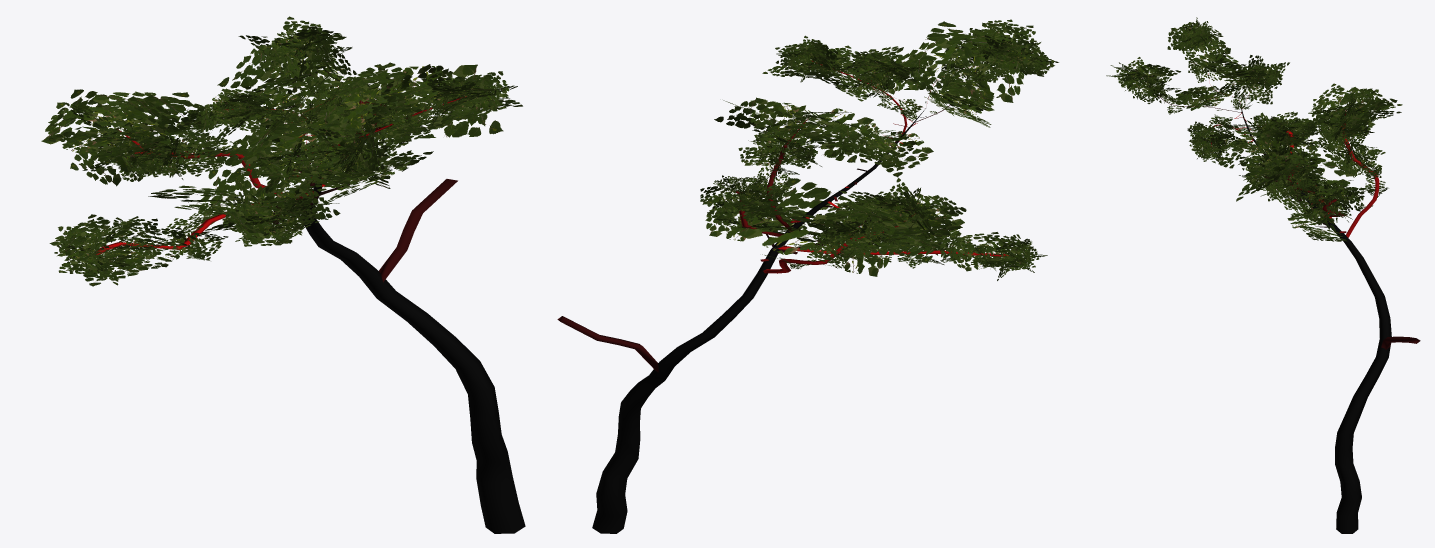
The picture shows the model from 3 angles, left to right: view 1: azimuth 30°, elevation 25°; view 2: azimuth 150°, elevation 25°; view 3: azimuth 270°, elevation 25°; orthographic projection. The views are drawn at different scales.
Parts seen in each view (by area): view 1: Tree12; view 2: Tree12; view 3: Tree12.
Part boxes in pixels (x1,y1,x2,y2): Tree12: [41, 16, 525, 533]; Tree12: [557, 19, 1058, 533]; Tree12: [1106, 17, 1420, 533].
Size of the model in its own units: 6 by 6.7 by 5.
